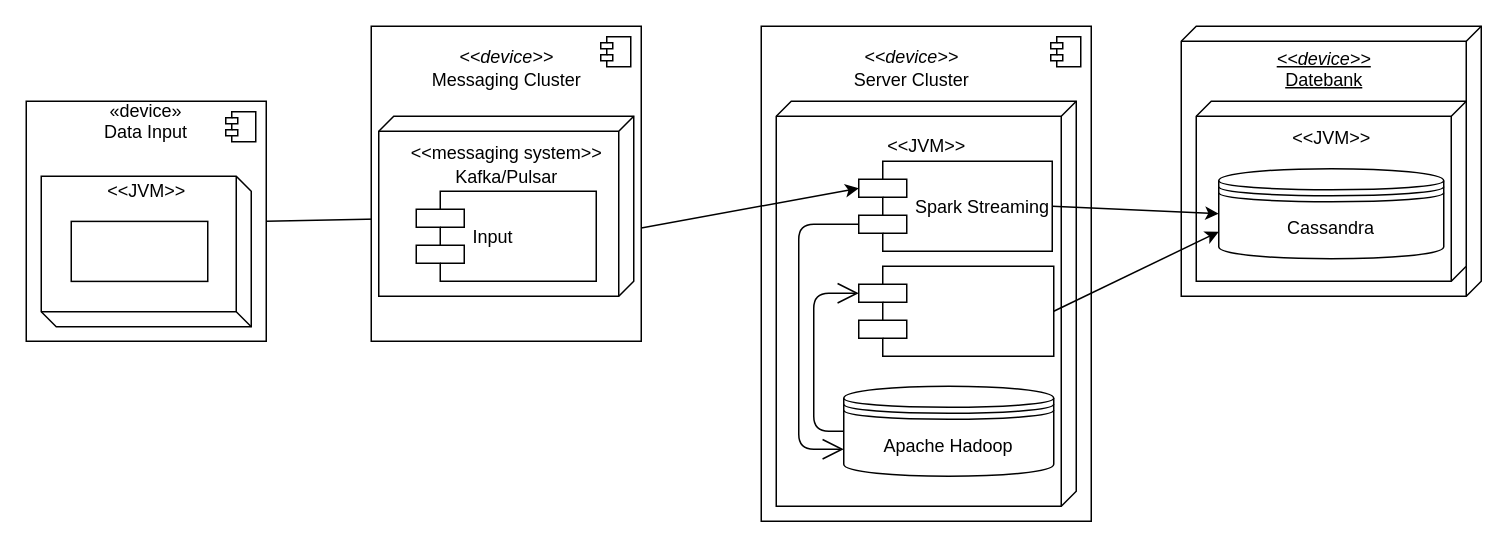
This 1508x548 diagram has some shape labels left out. Each missing label, with the box of its shape:
Spark: (857, 265, 1054, 356)
Test Data Generator: (70, 220, 208, 281)
